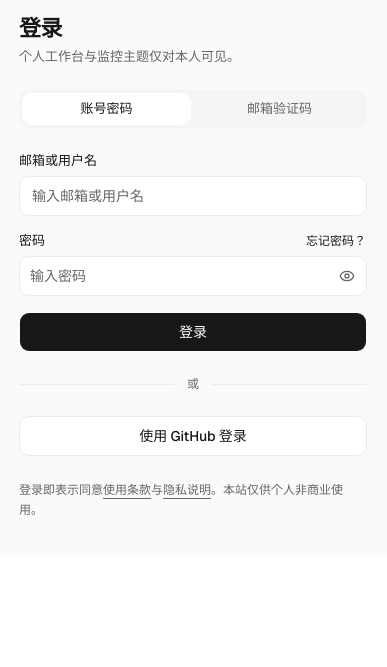
LoginForm › keeps code sending on the primary button without an extra cancellation action
Click the button with aria-label "使用邮箱验证码登录". click: (280, 109)
box: [195, 93, 364, 125]
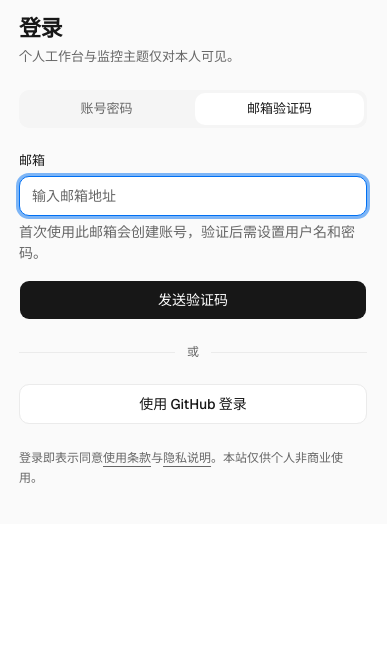
Expected: the field labelled "邮箱" is shown
Type "reader@example.com" into the field labelled "邮箱". click: (193, 196)
box: [19, 176, 367, 216]
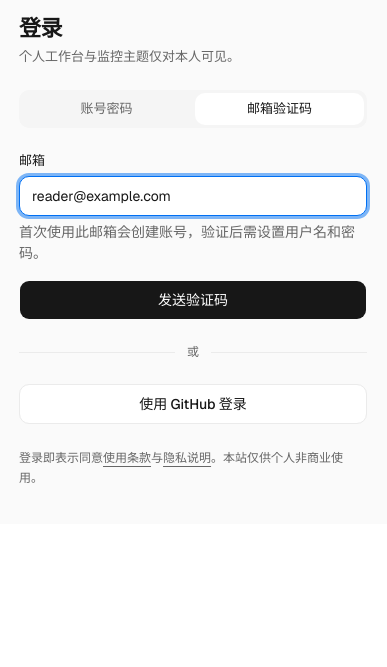
Submit the form named "邮箱验证码登录", box [19, 152, 367, 320]
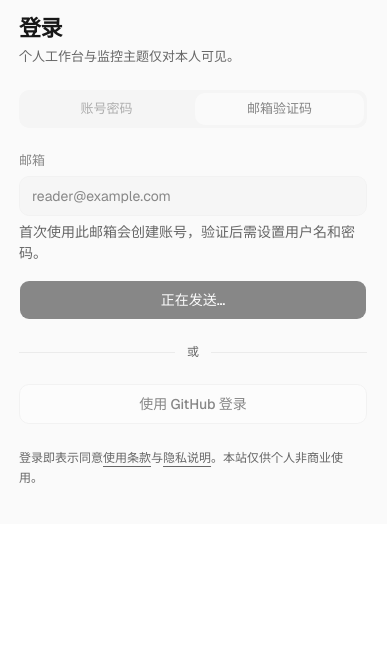
Expected: the button "正在发送…" is disabled, [19, 280, 367, 320]
Expected: the field labelled "邮箱" is disabled, [19, 176, 367, 216]
Submit the form named "邮箱验证码登录", box [19, 152, 367, 320]
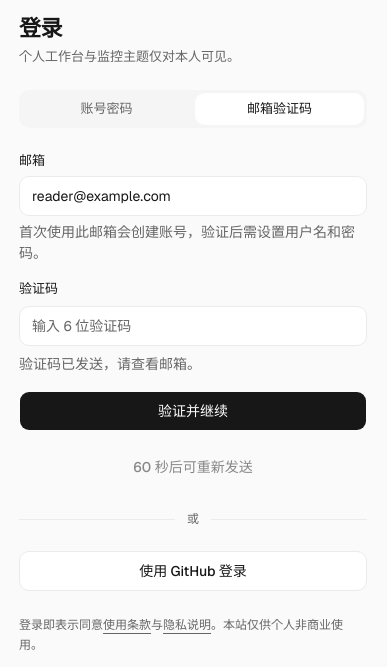
Expected: the button "验证并继续" is enabled, [19, 391, 367, 431]
Expected: the field labelled "验证码" is shown, [19, 306, 367, 346]
